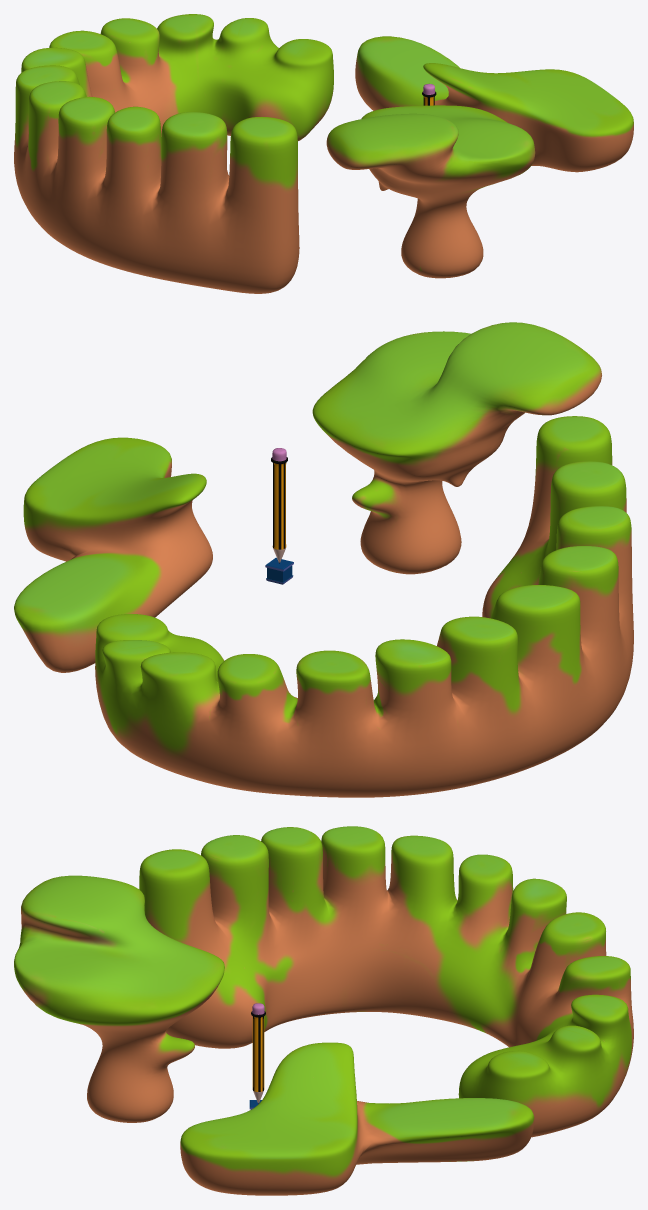
Rendered from map_islands_2.fbx.
The picture shows the model from 3 angles, top to bottom: view 1: azimuth 30°, elevation 25°; view 2: azimuth 150°, elevation 25°; view 3: azimuth 270°, elevation 25°; orthographic projection. The views are drawn at different scales.
Parts seen in each view (by area): view 1: Island_stairs, Island_finish, Island_first; view 2: Island_stairs, Island_finish, Island_first, Pencil; view 3: Island_stairs, Island_finish, Island_first, Pencil.
Boxes of the visible parts, x1,y1,x2,y2 form: Island_stairs: (14, 14, 333, 293); Island_finish: (326, 105, 535, 278); Island_first: (355, 36, 633, 172); Island_stairs: (95, 416, 633, 797); Island_finish: (312, 322, 601, 574); Island_first: (14, 437, 212, 672); Pencil: (271, 448, 287, 563); Island_stairs: (139, 826, 633, 1137); Island_finish: (14, 875, 224, 1122); Island_first: (180, 1042, 534, 1195); Pencil: (251, 1003, 265, 1103).
Bounding box in the file's own units: 7931 × 2696 × 7987.
